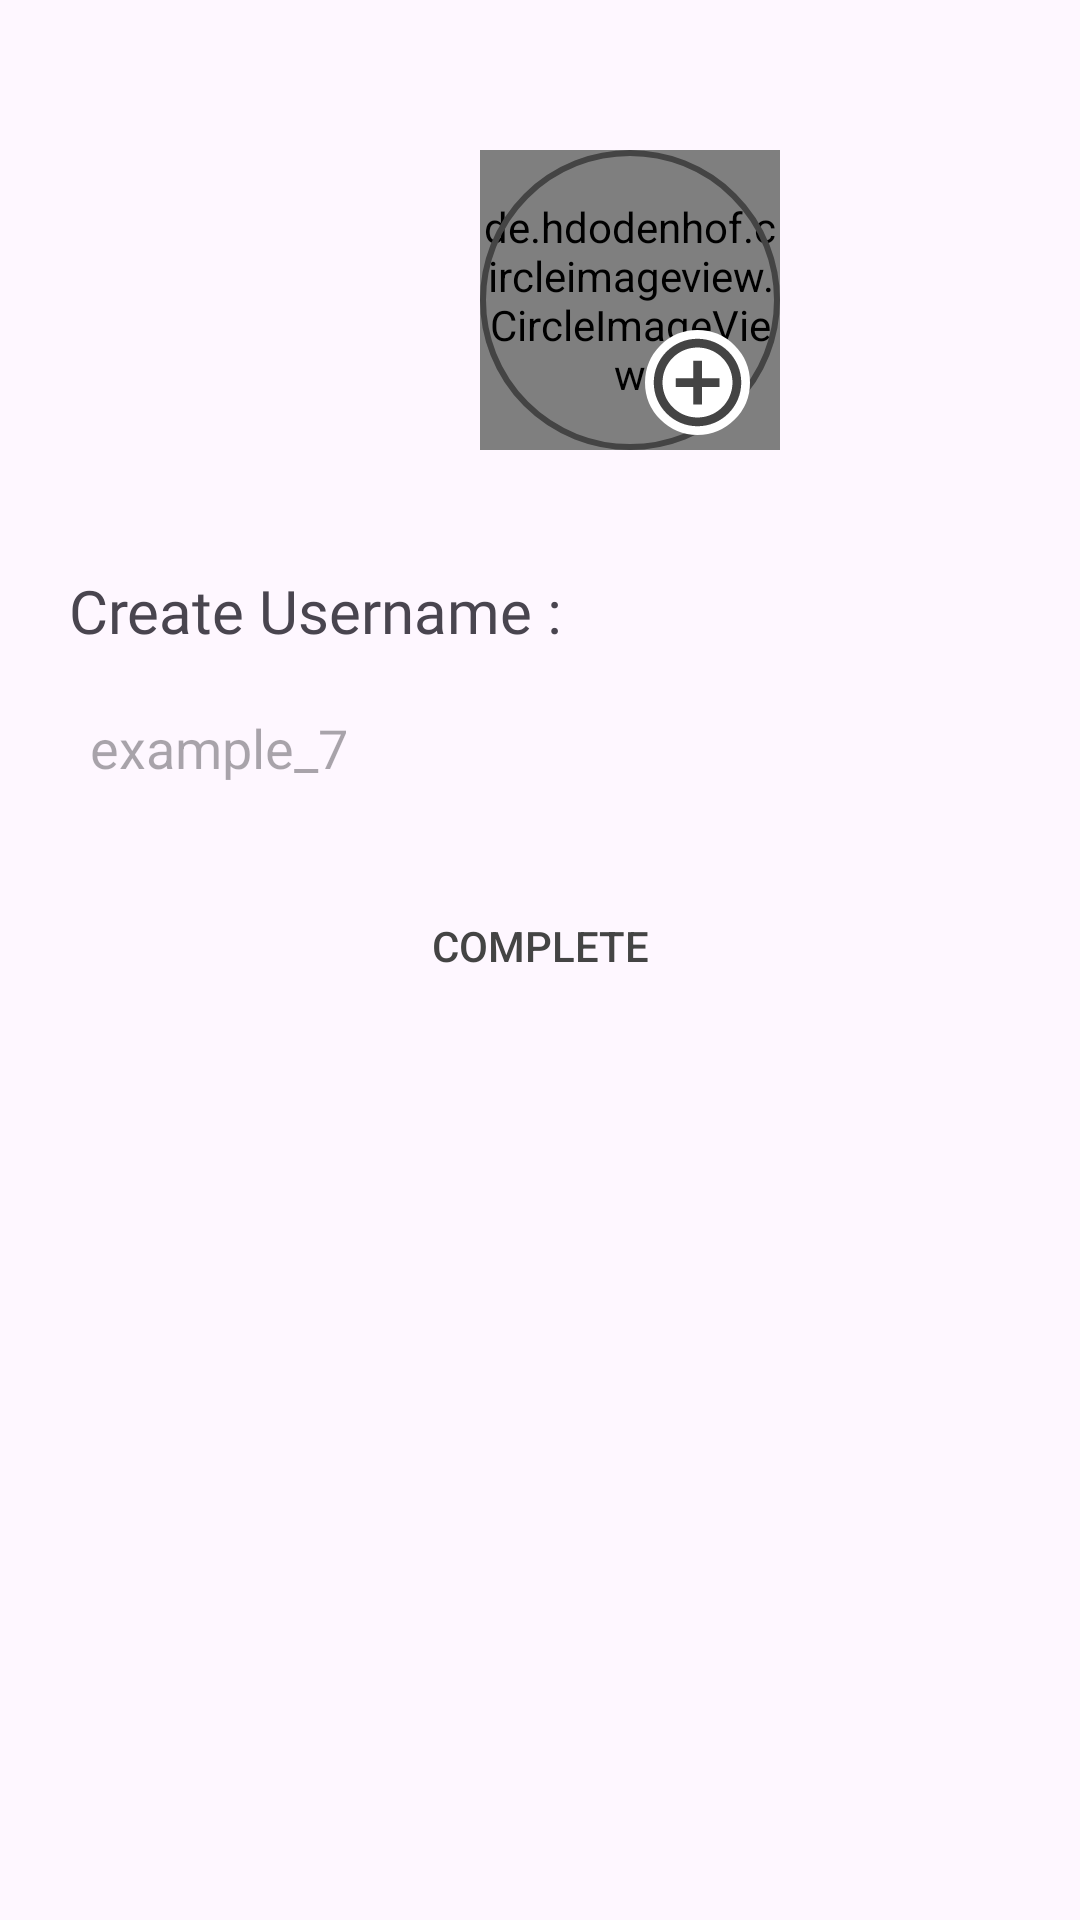

Where icons sit on this 1080w x 1920h app screen, as (x1, y1, x2, y2):
add: (645, 330, 750, 435)
